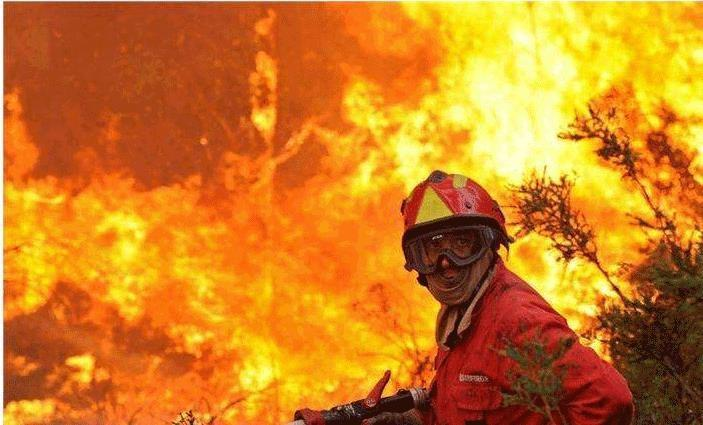fire: (8, 2, 689, 408)
